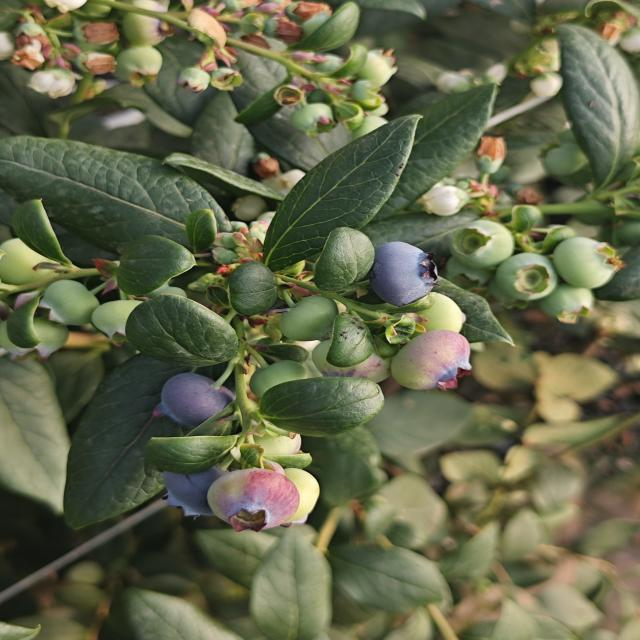ripe: (156, 459, 234, 535), (366, 240, 442, 310), (154, 371, 238, 430)
